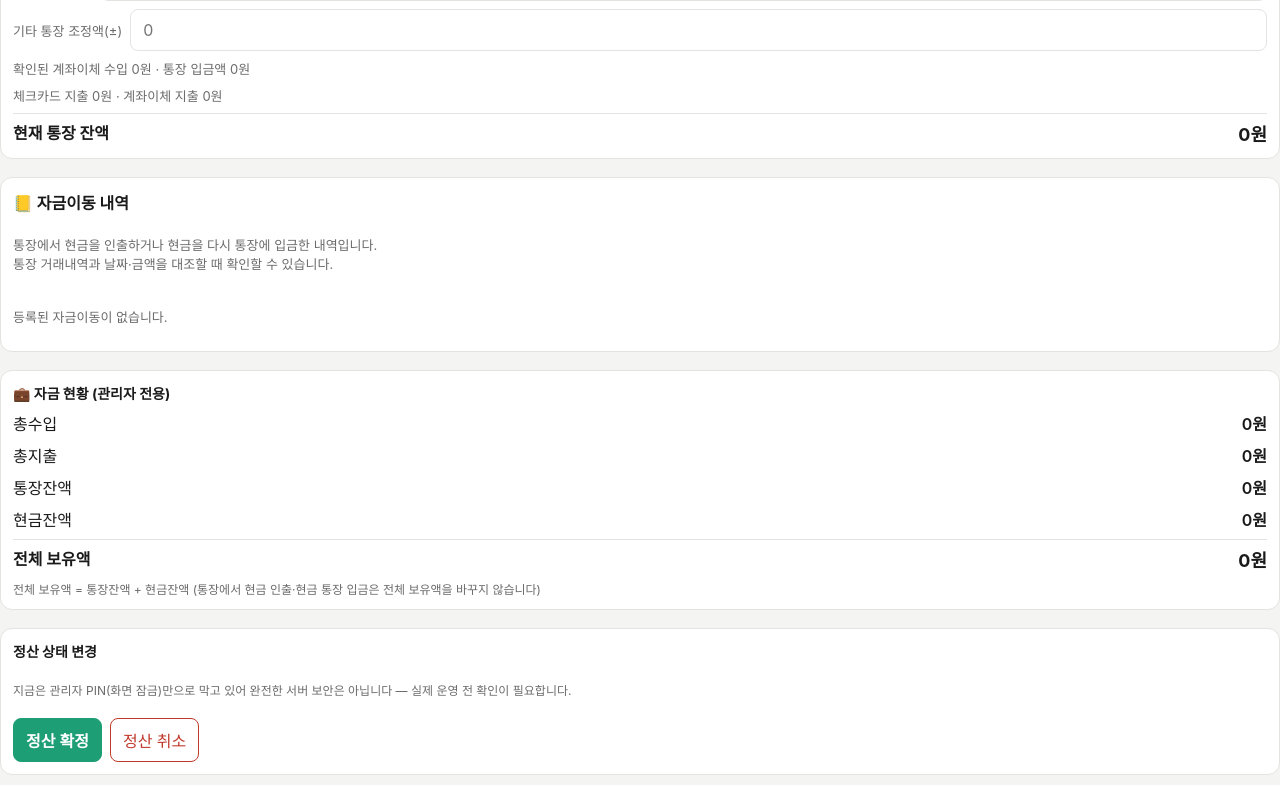
저장 실패 › Firestore 저장이 실패하면 화면에 오류가 표시된다(성공 메시지로 남지 않음)
(page scrolled)
Click the button "정산 확정".
click(57, 740)  # box 13,718 -> 102,762
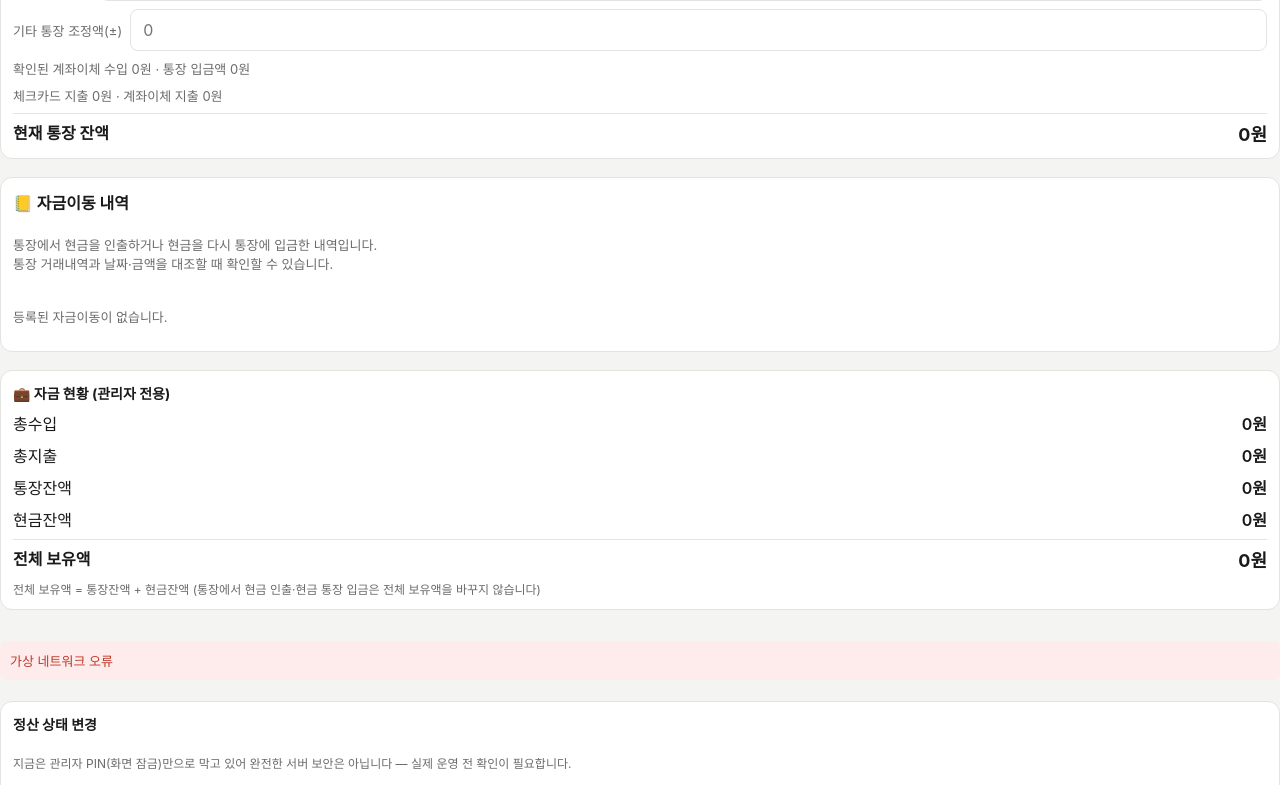
Expected: the text "가상 네트워크 오류" is shown, 0,641 -> 1279,680
